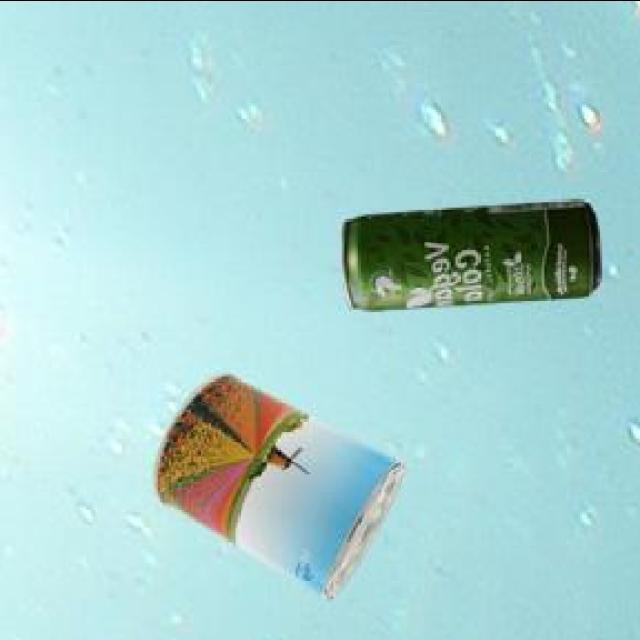logam: (150, 370, 401, 597), (339, 197, 597, 306)
